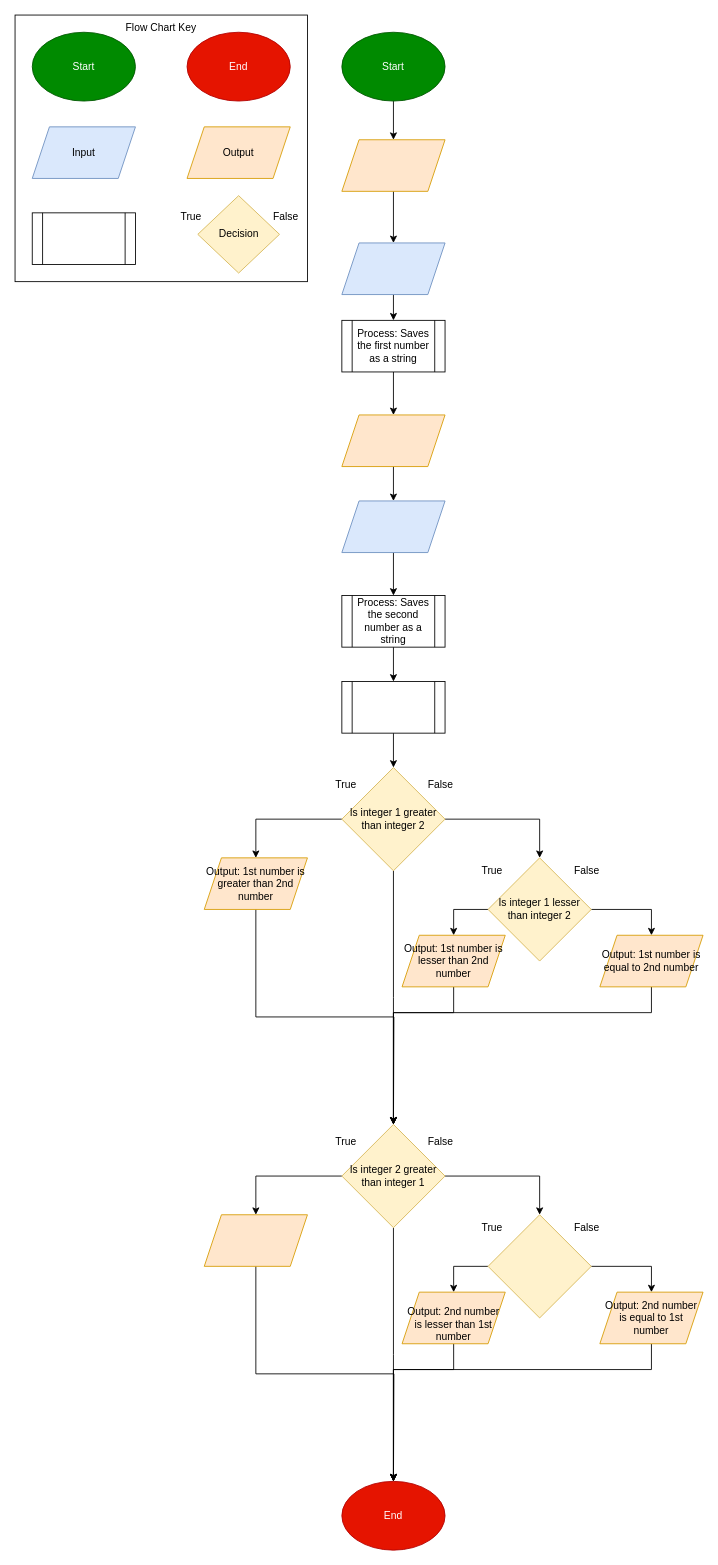
This 718x1565 diagram has some shape labels left out. The shapes that lost their labels are listed below. From the top down, each one's box as (x1, y1, x2, y2) in pixels, then its label:
(341, 139, 445, 191): Output: Ask user for 1st number
(31, 212, 135, 264): Process
(341, 242, 445, 295): Input: User Inputs first number
(341, 414, 445, 467): Output: Ask user for 2nd number
(341, 500, 445, 553): Input: User Inputs second number
(341, 681, 445, 733): Process: Converts both the strings into integers
(203, 1214, 307, 1266): Output: 2nd number is greater than 1st number
(487, 1214, 591, 1318): Is integer 2 lesser than integer 1
